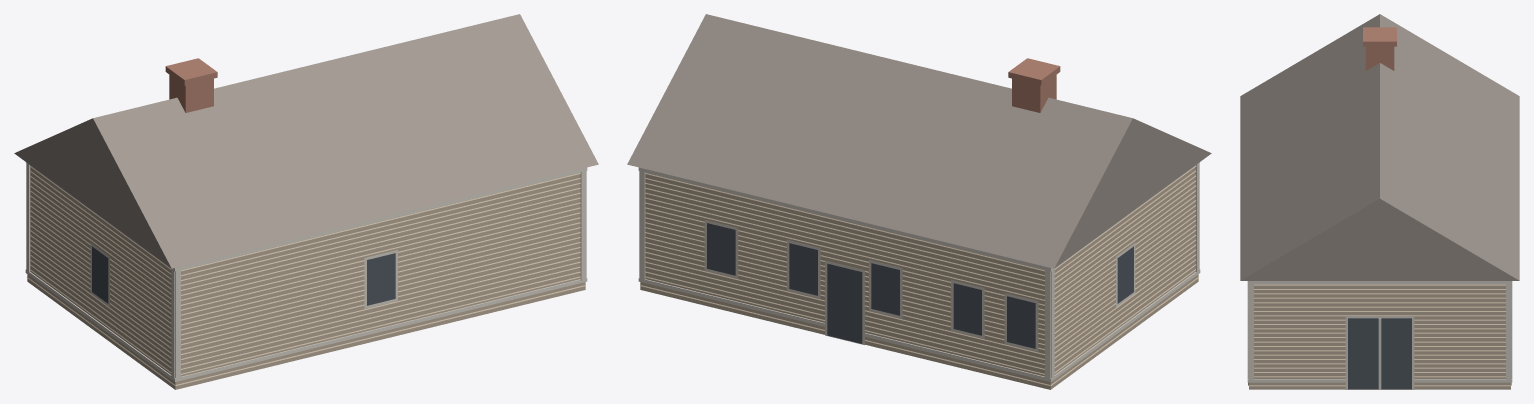
Rendered from bates_auction_room__frame_1834.glb.
3 views of the same model, side by side, from view 1: azimuth 30°, elevation 25°; view 2: azimuth 150°, elevation 25°; view 3: azimuth 270°, elevation 25° (orthographic). The views are drawn at different scales.
Parts seen in each view (by area): view 1: bates_auction_room__frame_1834; view 2: bates_auction_room__frame_1834; view 3: bates_auction_room__frame_1834.
Boxes of the visible parts, x1=… form: bates_auction_room__frame_1834: x1=14, y1=14, x2=598, y2=389; bates_auction_room__frame_1834: x1=627, y1=14, x2=1211, y2=389; bates_auction_room__frame_1834: x1=1240, y1=14, x2=1519, y2=389.
Bounding box in the file's own units: 12.69 × 6.95 × 8.12.
